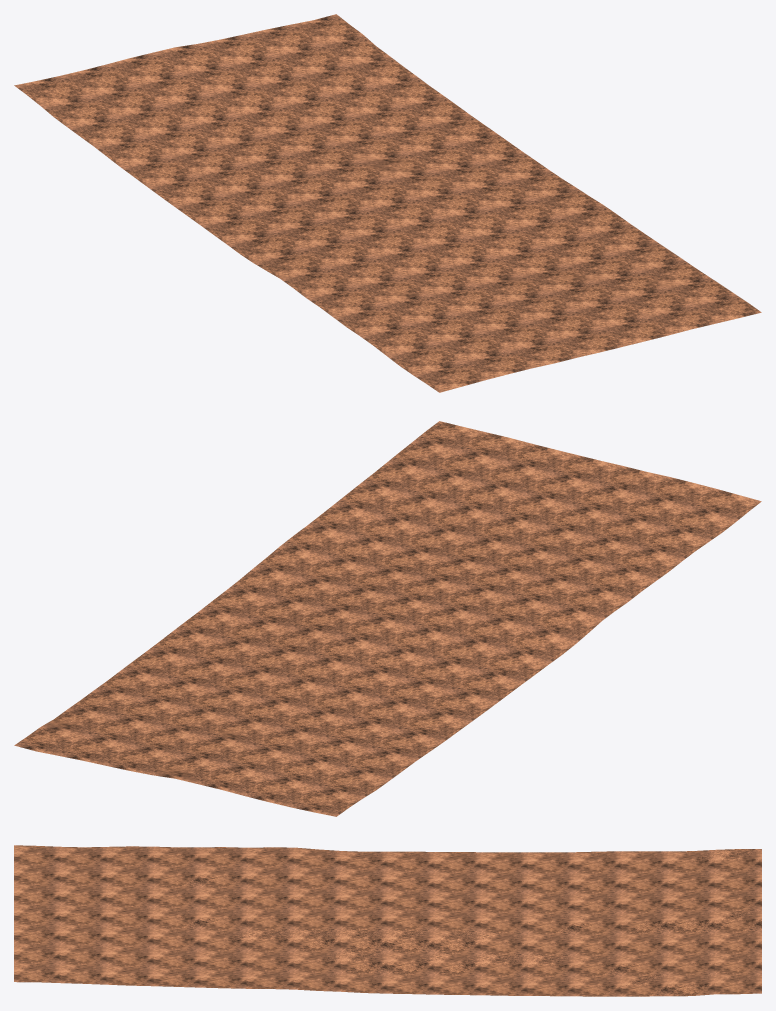
Rendered from terrain_08_23.dae.
3 views of the same model, one above another, from view 1: azimuth 30°, elevation 25°; view 2: azimuth 150°, elevation 25°; view 3: azimuth 270°, elevation 25° (orthographic). The views are drawn at different scales.
Visible parts, largest first — view 1: terrain_08_23-node; view 2: terrain_08_23-node; view 3: terrain_08_23-node.
Boxes of the visible parts, x1,y1,x2,y2 form: terrain_08_23-node: (14,14,761,392); terrain_08_23-node: (14,421,761,816); terrain_08_23-node: (14,845,761,996).
Size of the model in its own units: 56 by 128 by 2.8.
1 material, 1 textured.
